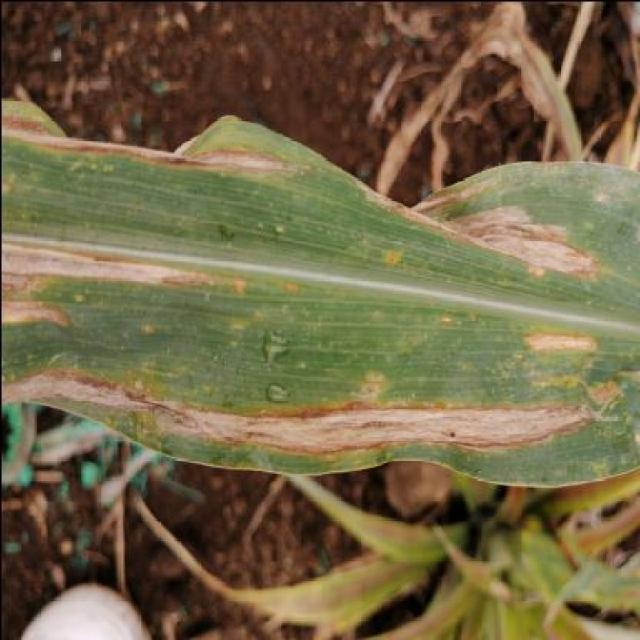Corn_Leaf_Blight: (0, 98, 640, 477)
